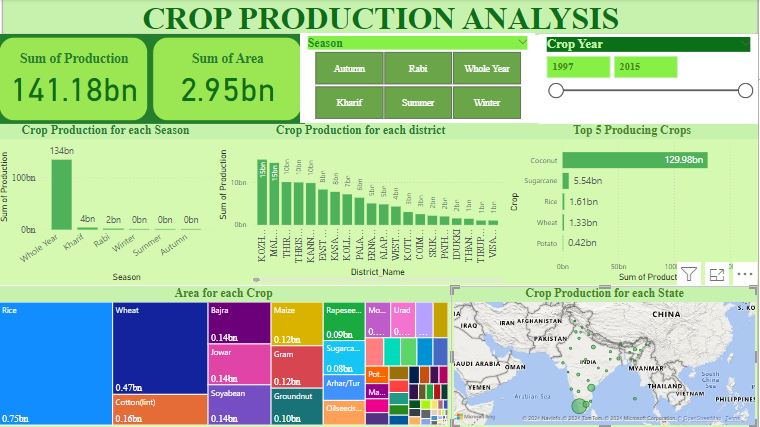

Layout of this report page (visuals, bound fields, positions):
{"tool":"powerbi","page":{"name":"Page 1","canvas":[1280,720],"ordinal":0},"visuals":[{"type":"textbox","title":"CROP PRODUCTION ANALYSIS","box":[10.1,0,1269.9,58.8],"z":0},{"type":"clusteredColumnChart","title":"Crop Production for each Season","fields":{"Y":["Sum(Crop Production data.Production)"],"Category":["Crop Production data.Season"]},"box":[0,208.3,367.9,272.1],"z":1000},{"type":"barChart","title":"Top 5 Producing Crops","fields":{"Category":["Crop Production data.Crop"],"Y":["Sum(Crop Production data.Production)"]},"box":[856.7,208.3,423.3,272.1],"z":2000},{"type":"clusteredColumnChart","title":"Crop Production for each district","fields":{"Y":["Sum(Crop Production data.Production)"],"Category":["Crop Production data.District_Name"]},"box":[367.9,208.3,488.8,272.1],"z":3000},{"type":"cardVisual","fields":{"Data":["Sum(Crop Production data.Production)","Sum(Crop Production data.Area)"]},"box":[0,58.8,519.1,151.2],"z":4000},{"type":"slicer","fields":{"Values":["Crop Production data.Crop_Year"]},"box":[912.1,58.8,367.9,151.2],"z":5000},{"type":"slicer","fields":{"Values":["Crop Production data.Season"]},"box":[510.7,57.1,394.8,151.2],"z":6000},{"type":"treemap","title":"Area for each Crop","fields":{"Values":["Sum(Crop Production data.Area)"],"Group":["Crop Production data.Crop"]},"box":[0,482.1,764.3,238.5],"z":7000},{"type":"map","title":"Crop Production for each State","fields":{"Category":["Crop Production data.State_Name"],"Size":["Sum(Crop Production data.Production)"]},"box":[764.3,482.1,515.7,238.5],"z":8000}]}

Visuals, with their boxes in screenshot pixels (x1, y1, x2, y2), scaled from the page's 1280x720 canvas onto the 760x427 screenshot:
"CROP PRODUCTION ANALYSIS" textbox: locate(6, 0, 759, 35)
"Crop Production for each Season" clusteredColumnChart: locate(0, 124, 218, 285)
"Top 5 Producing Crops" barChart: locate(509, 124, 759, 285)
"Crop Production for each district" clusteredColumnChart: locate(218, 124, 509, 285)
cardVisual - Sum(Crop Production data.Production) x Sum(Crop Production data.Area): locate(0, 35, 308, 125)
slicer - Crop Production data.Crop_Year: locate(542, 35, 759, 125)
slicer - Crop Production data.Season: locate(303, 34, 538, 124)
"Area for each Crop" treemap: locate(0, 286, 454, 426)
"Crop Production for each State" map: locate(454, 286, 759, 426)
